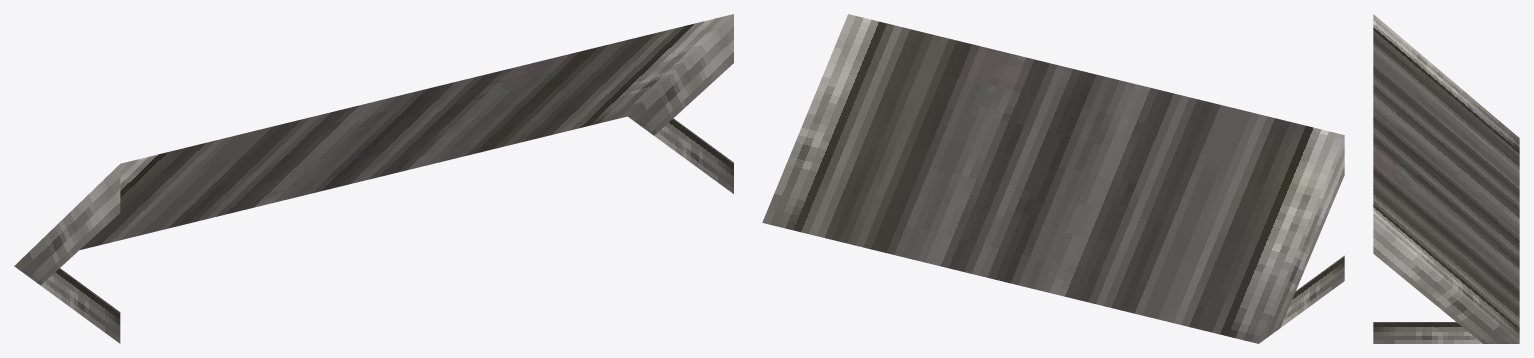
File: ru-detail-awning-wide.glb
3 renders of one model, left to right at view 1: azimuth 30°, elevation 25°; view 2: azimuth 150°, elevation 25°; view 3: azimuth 270°, elevation 25°, orthographic. The views are drawn at different scales.
Parts seen in each view (by area): view 1: detail-awning-wide; view 2: detail-awning-wide; view 3: detail-awning-wide.
Part boxes in pixels (bbox=[...]): detail-awning-wide: bbox=[14, 14, 733, 343]; detail-awning-wide: bbox=[762, 14, 1344, 343]; detail-awning-wide: bbox=[1373, 14, 1519, 343].
Bounding box in the file's own units: 1 × 0.2808 × 0.3.
Materials: 1 (1 with a texture image).
